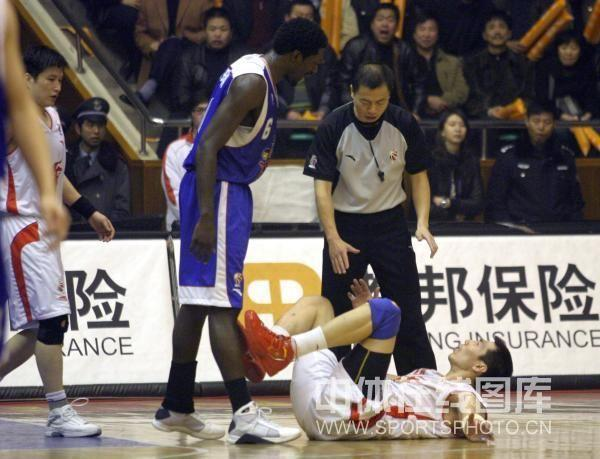down: (231, 276, 527, 443)
up: (156, 8, 318, 448), (1, 39, 112, 441), (310, 55, 443, 373)
